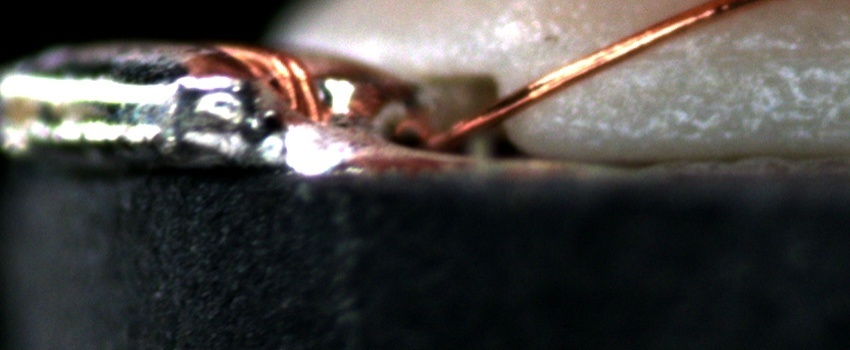DL: (633, 22, 850, 86)
TE: (215, 34, 346, 140)
